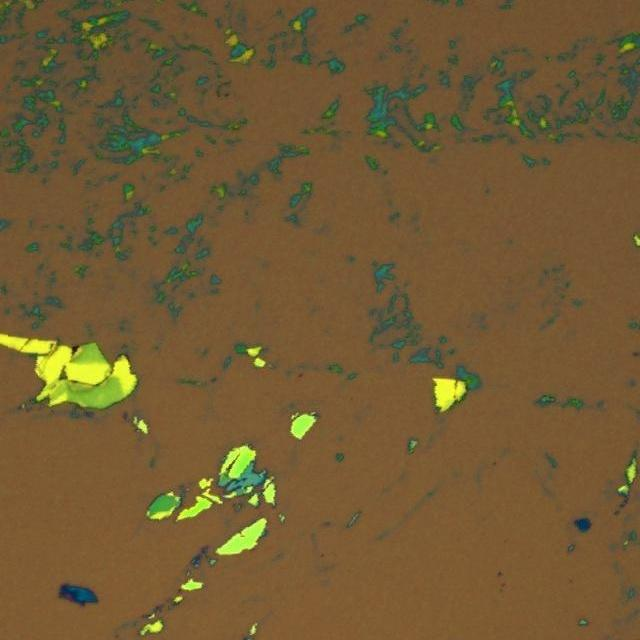monolayer-eWW4: (64, 593, 70, 599)
